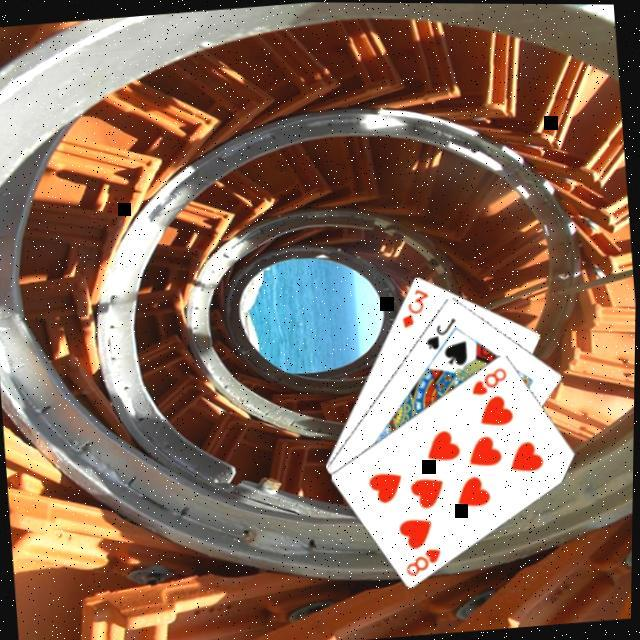3D: (397, 282, 436, 329)
8H: (468, 361, 513, 397), (402, 541, 447, 577)
JS: (421, 311, 462, 351)
